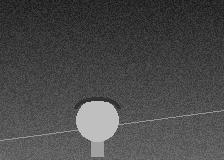no_helmet: (76, 97, 118, 146)
